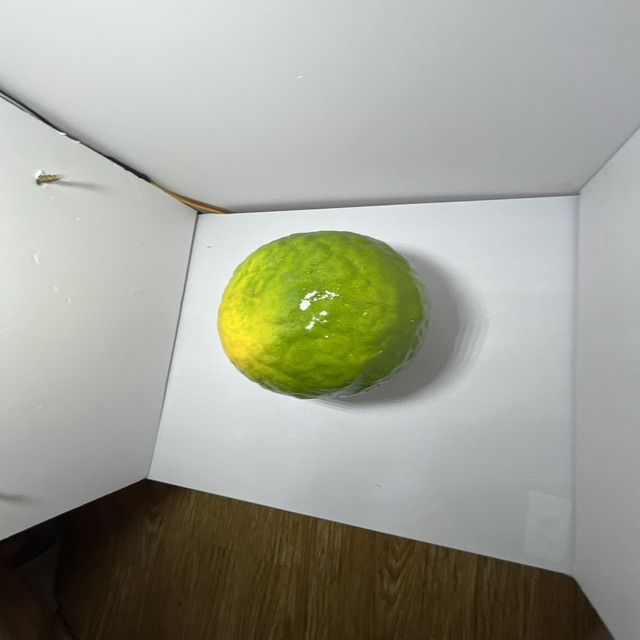Cam xanh: (216, 224, 434, 408)
